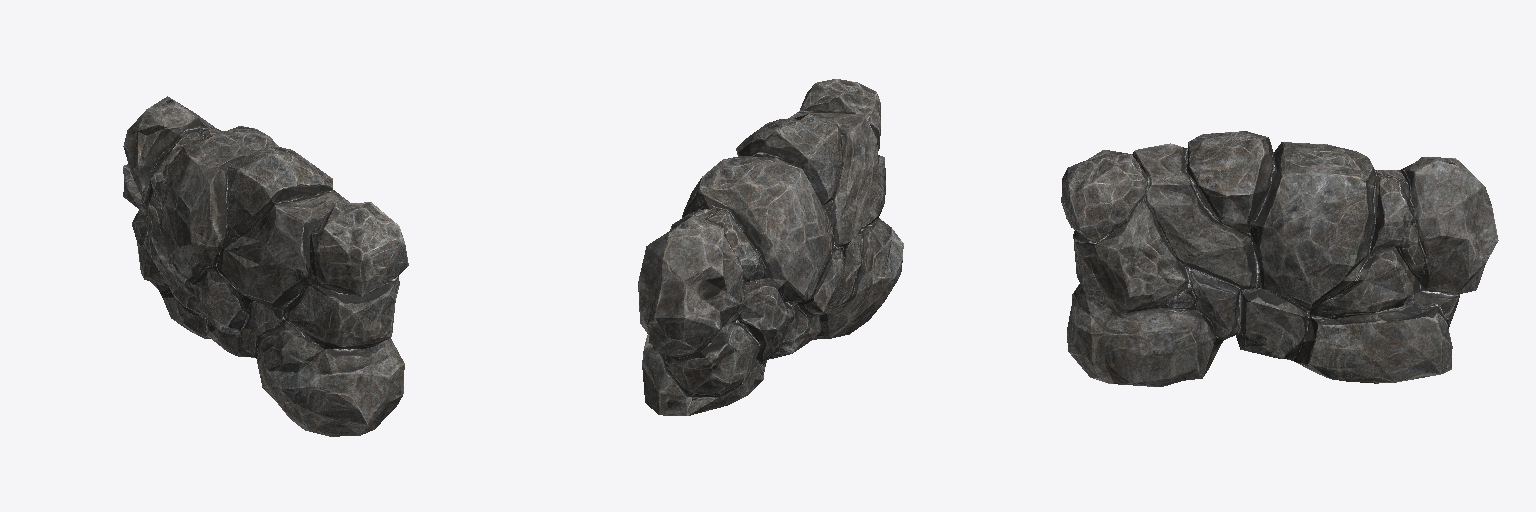
The picture shows the model from 3 angles: view 1: azimuth 30°, elevation 25°; view 2: azimuth 150°, elevation 25°; view 3: azimuth 270°, elevation 25°; orthographic projection.
Visible parts, largest first — view 1: Rocks_03; view 2: Rocks_03; view 3: Rocks_03.
Boxes of the visible parts, box(x1,y1,x2,y2) form: Rocks_03: box(123, 96, 408, 436); Rocks_03: box(638, 79, 903, 415); Rocks_03: box(1061, 131, 1498, 386).
Bounding box in the file's own units: 81.91 × 148 × 245.
1 materials, 1 textured.